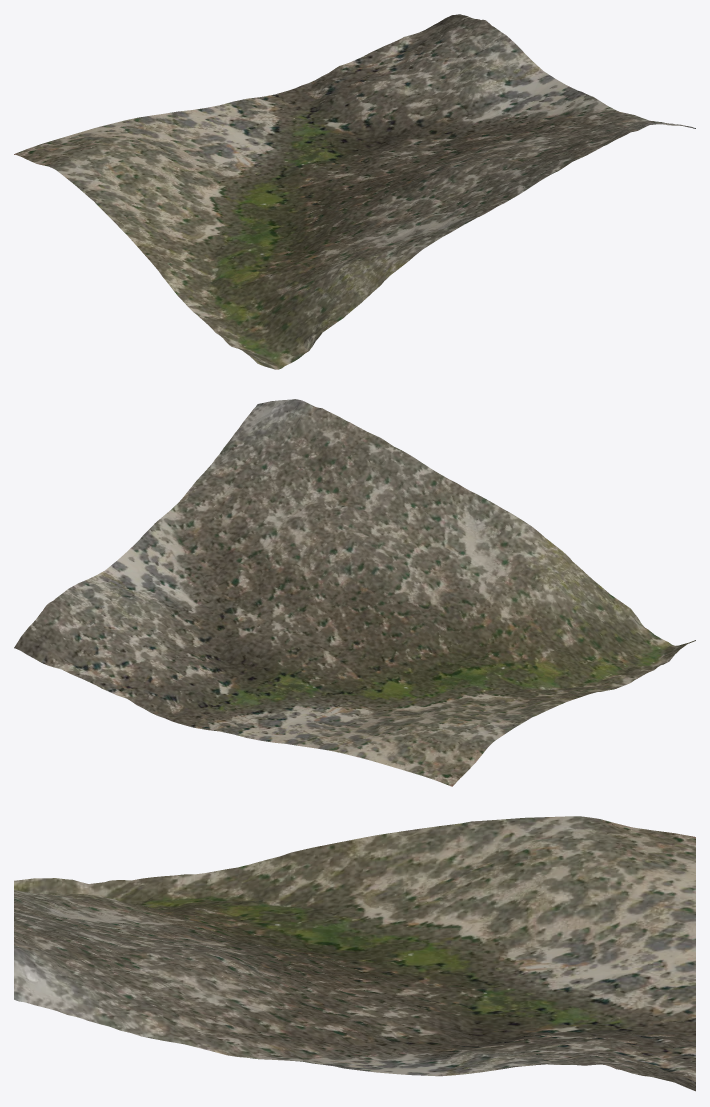
3 views of the same model, one above another, from view 1: azimuth 30°, elevation 25°; view 2: azimuth 150°, elevation 25°; view 3: azimuth 270°, elevation 25° (orthographic). The views are drawn at different scales.
Size of the model in its own units: 500 by 169 by 481.
Materials: 1 (1 with a texture image).
